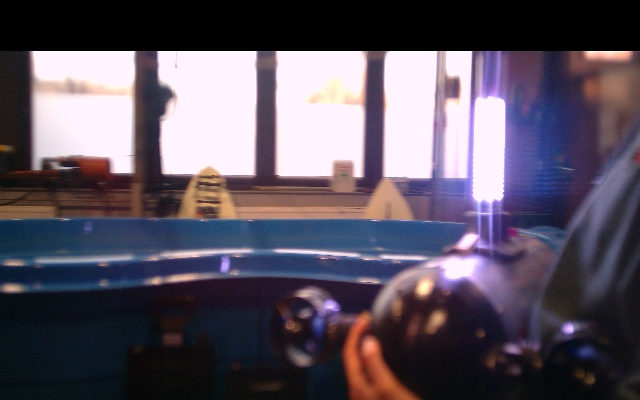white: (472, 96, 505, 203)
